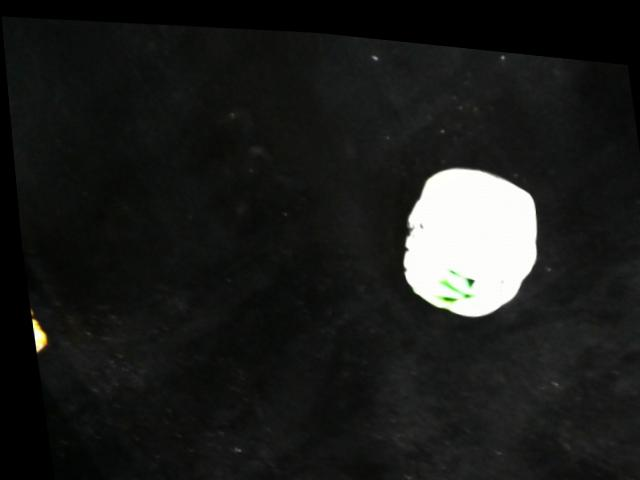can: (384, 147, 543, 318)
